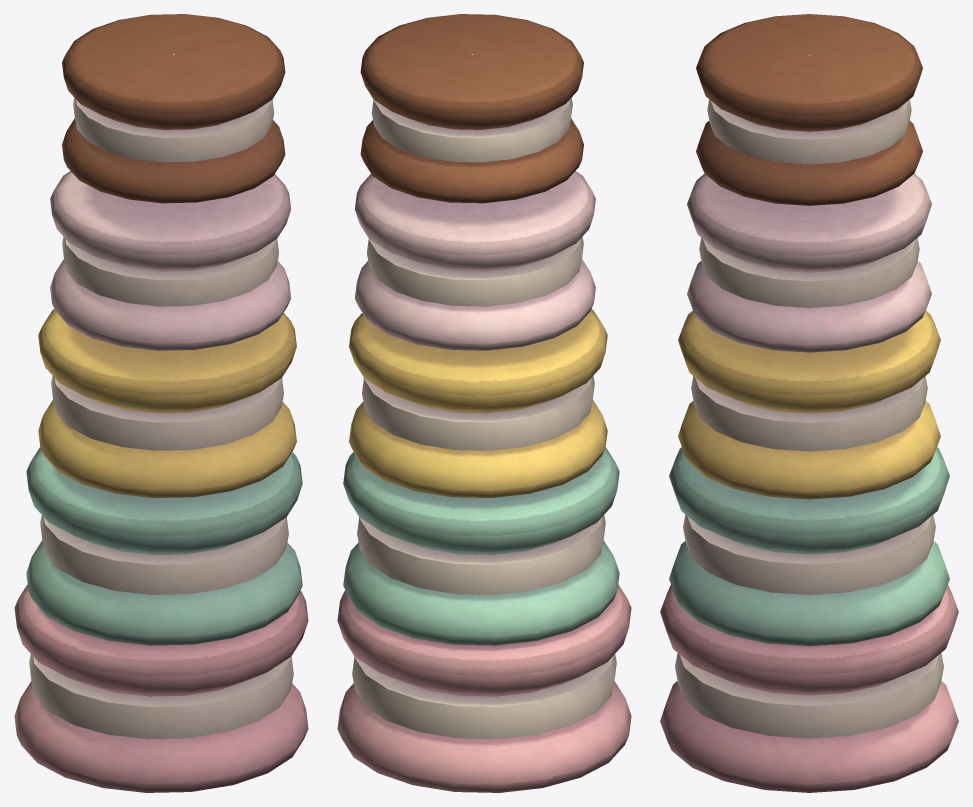
Rendered from decor_macarons.glb.
The picture shows the model from 3 angles, left to right: view 1: azimuth 30°, elevation 25°; view 2: azimuth 150°, elevation 25°; view 3: azimuth 270°, elevation 25°; orthographic projection.
Visible parts, largest first — view 1: Macarons; view 2: Macarons; view 3: Macarons.
Part boxes in pixels (bbox=[...]): Macarons: bbox=[14, 14, 308, 792]; Macarons: bbox=[337, 14, 631, 792]; Macarons: bbox=[660, 14, 958, 792].
Size of what is drawn, in the model's own units: 0.84 by 2.14 by 0.84.
Materials: 1 (1 with a texture image).
